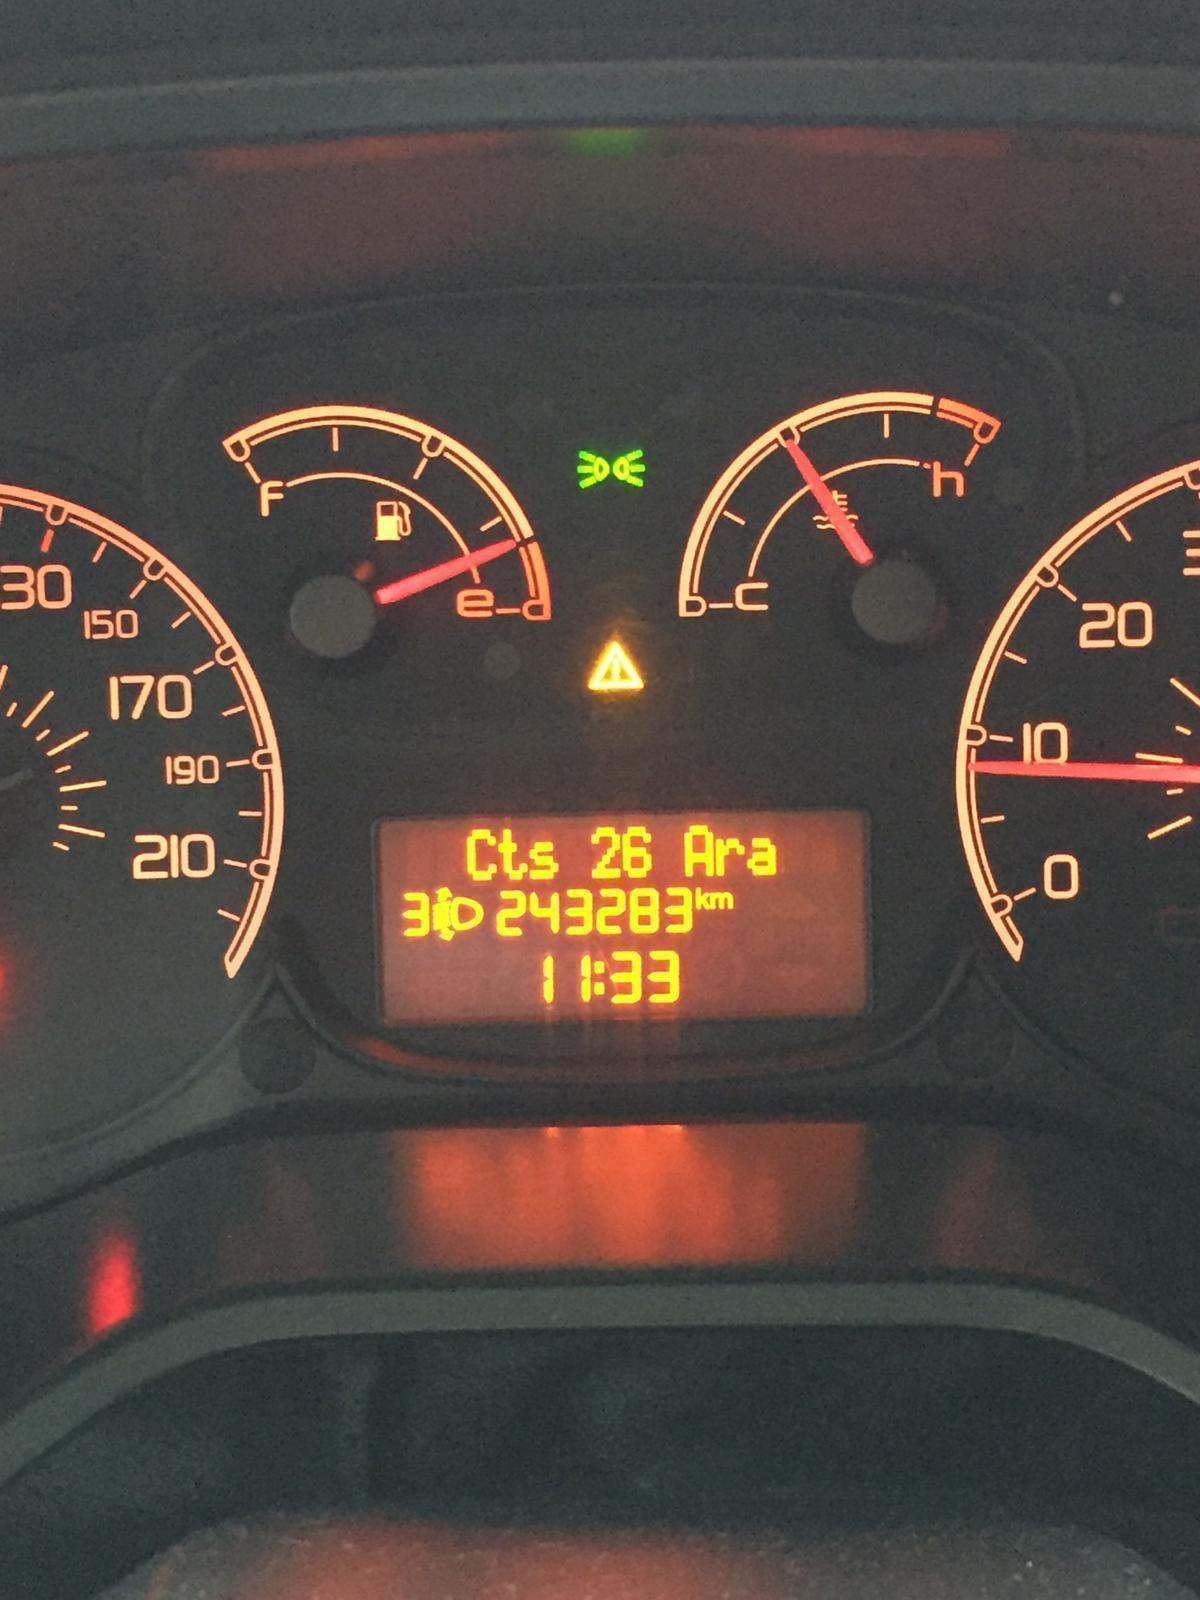1: (539, 952, 556, 1003), (576, 952, 590, 1003)
2: (591, 825, 623, 879), (596, 886, 626, 936), (497, 888, 524, 936)
3: (610, 949, 643, 1007), (648, 947, 679, 1005), (664, 884, 695, 934), (565, 886, 592, 936), (402, 889, 431, 937)
4: (529, 889, 558, 934)
6: (623, 825, 655, 879)
8: (629, 886, 661, 934)
X: (683, 824, 716, 879), (498, 826, 529, 881), (466, 826, 497, 882), (715, 837, 747, 877), (529, 838, 558, 881), (747, 833, 776, 876), (592, 957, 608, 1002), (695, 884, 713, 913), (711, 891, 736, 910)
odometer: (373, 814, 875, 1020)
